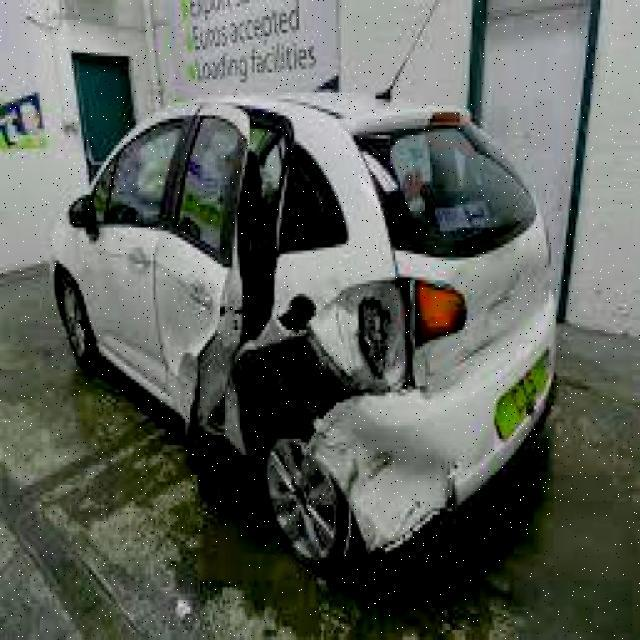car damage: (168, 111, 495, 555)
